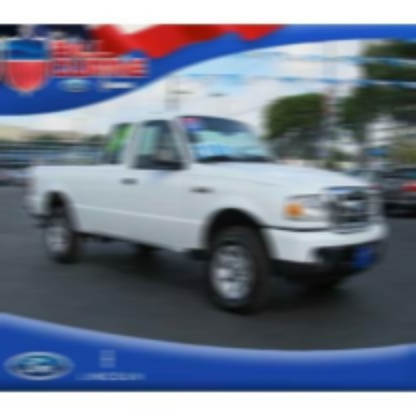Vehicle: (26, 109, 388, 316)
